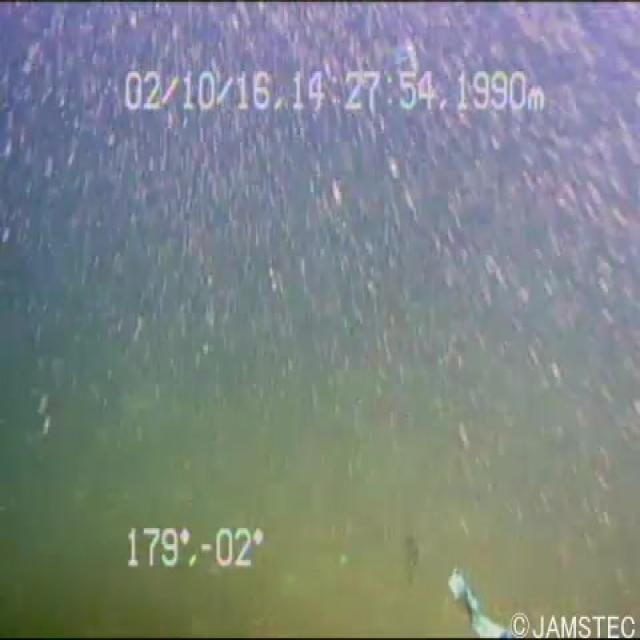plastic: (431, 558, 520, 638)
